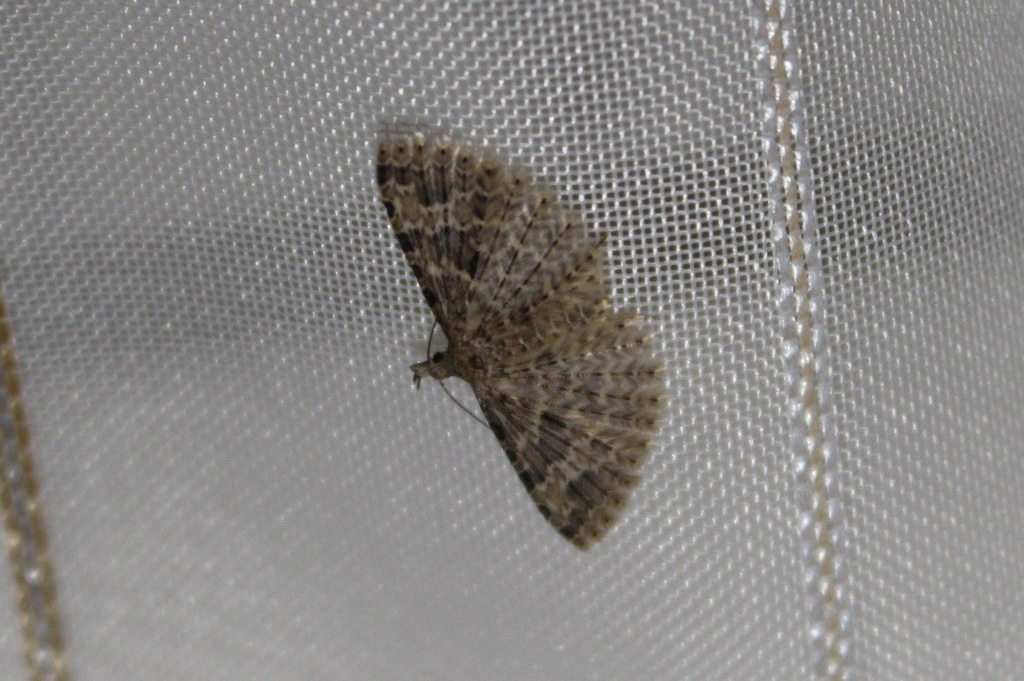Alucitidae: (353, 128, 692, 569)
moth: (355, 130, 694, 571)
